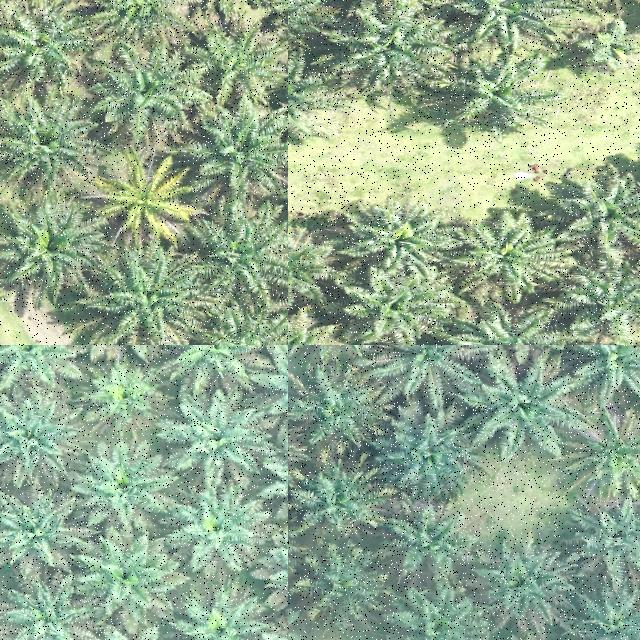Ganoderma: (107, 169, 181, 233)
